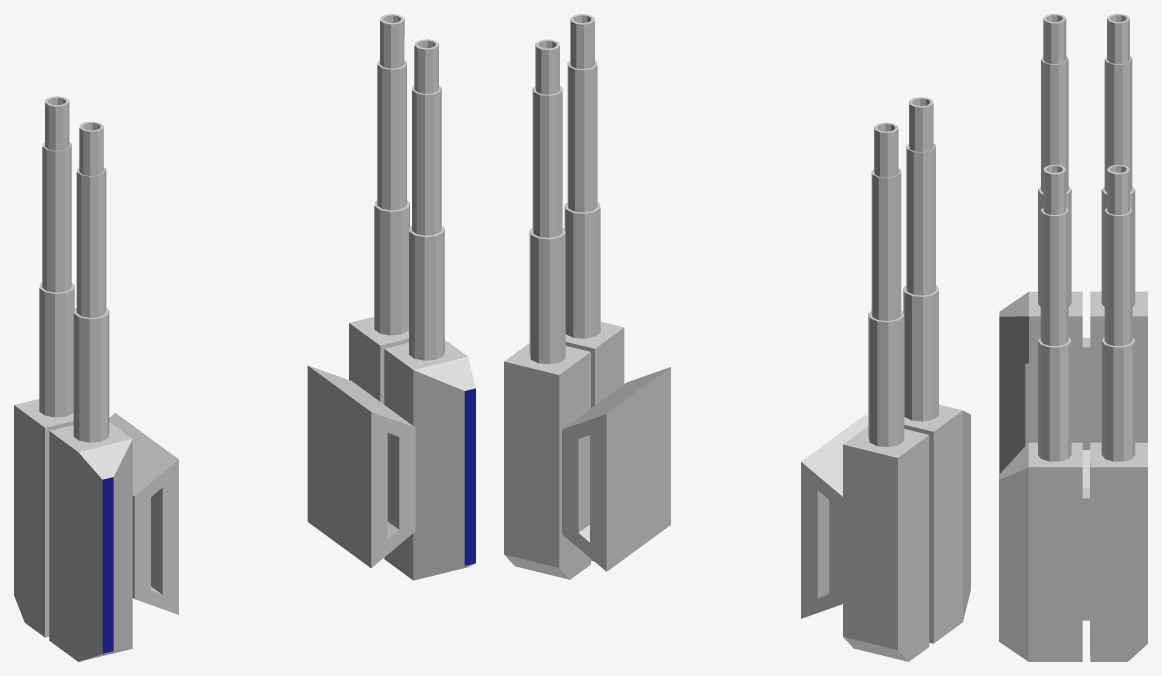
The model's file is turret 3.fbx.
3 views of the same model, side by side, from view 1: azimuth 30°, elevation 25°; view 2: azimuth 150°, elevation 25°; view 3: azimuth 270°, elevation 25° (orthographic). The views are drawn at different scales.
Visible parts, largest first — view 1: cannon 01; view 2: cannon 01; view 3: cannon 01.
Part boxes in pixels (x1,y1,x2,y2): cannon 01: [14, 14, 475, 661]; cannon 01: [504, 14, 970, 661]; cannon 01: [999, 14, 1147, 661].
Size of the model in its own units: 296 by 377 by 106.
